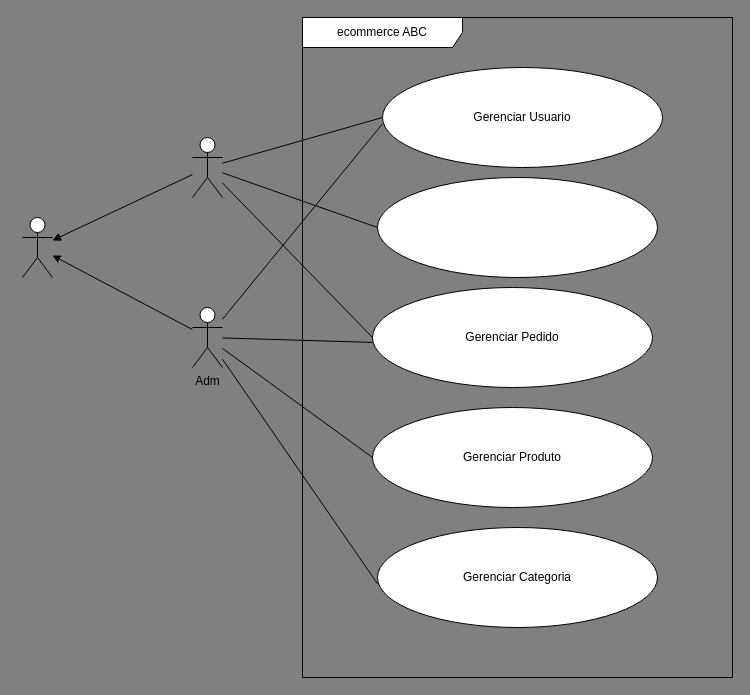
This 750x695 diagram has some shape labels left out. The shapes that lost their labels are listed below. From the top down, each one's centre as x and y in pixels, then its label:
[207,167]: Cliente
[37,247]: Usuario
[517,227]: Gerenciar Carrinho
